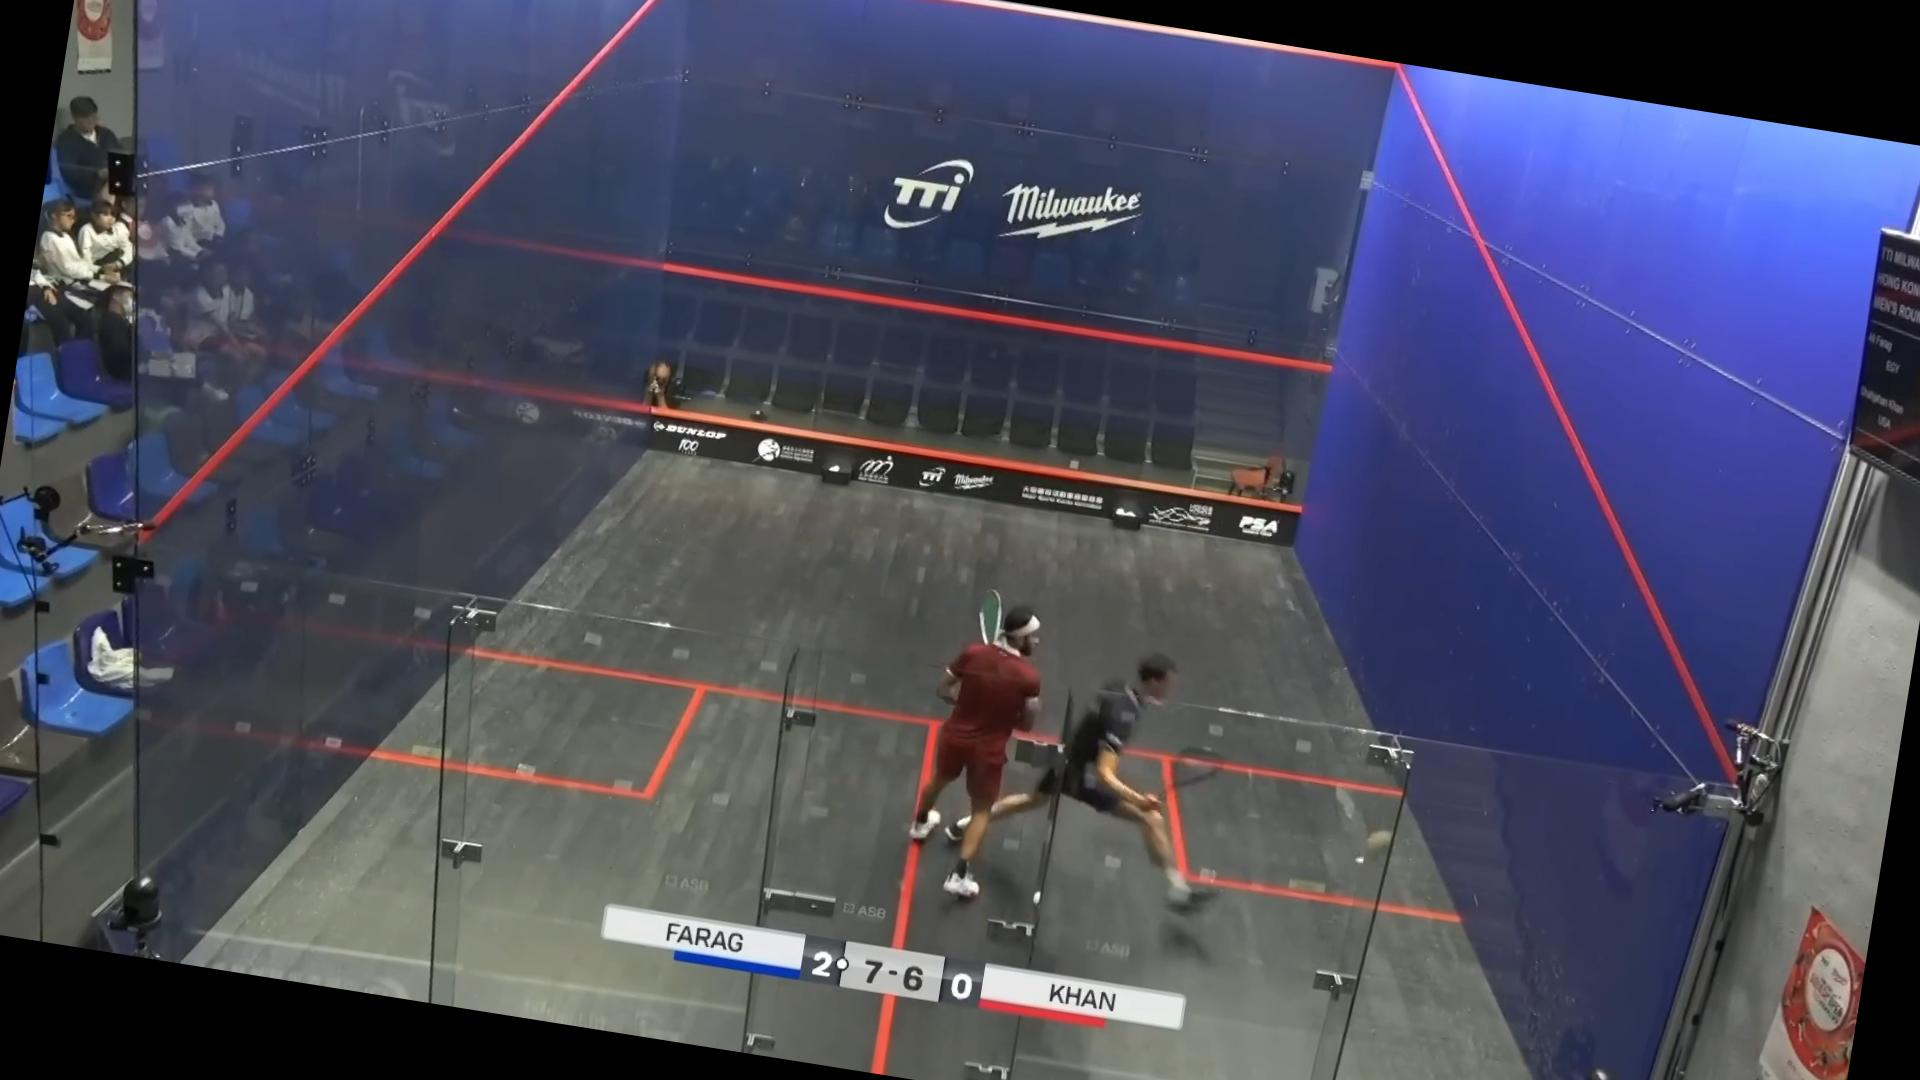Racket: (1137, 735, 1228, 811), (964, 580, 1011, 647)
